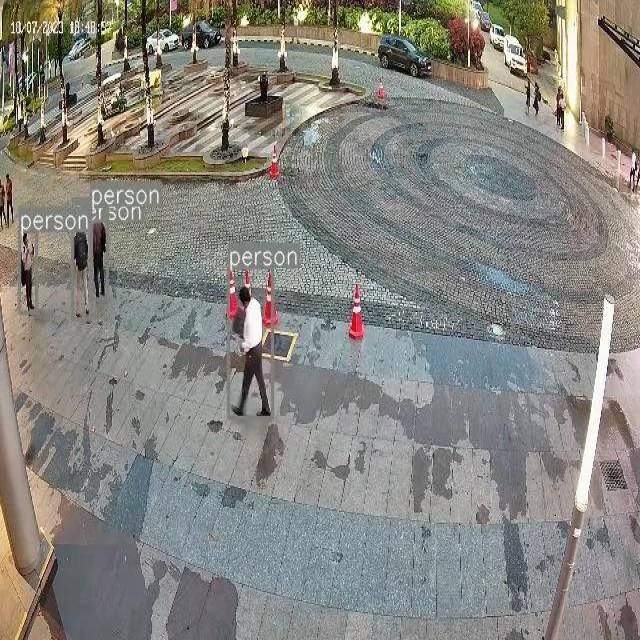person: (229, 263, 275, 416), (73, 225, 90, 318), (21, 230, 37, 314), (93, 221, 109, 304), (532, 83, 545, 116), (5, 175, 13, 224), (0, 173, 6, 227), (523, 82, 533, 114), (559, 96, 565, 127)
